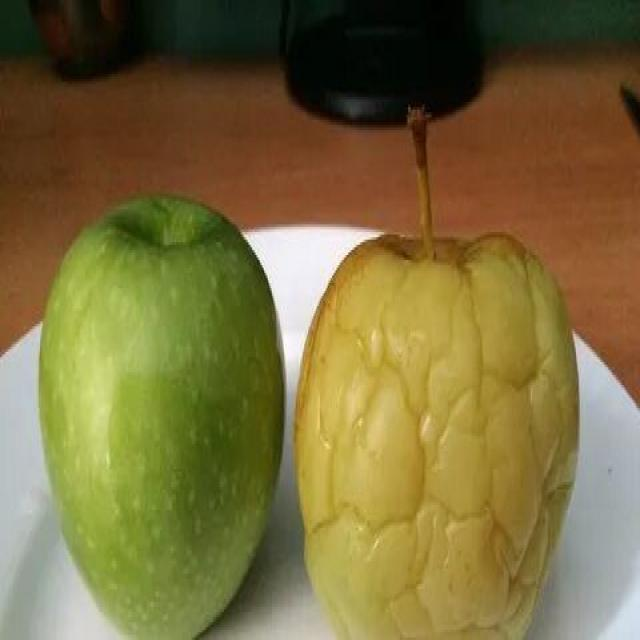Fresh Apple: (50, 217, 288, 618)
Rotten: (306, 238, 554, 640)
